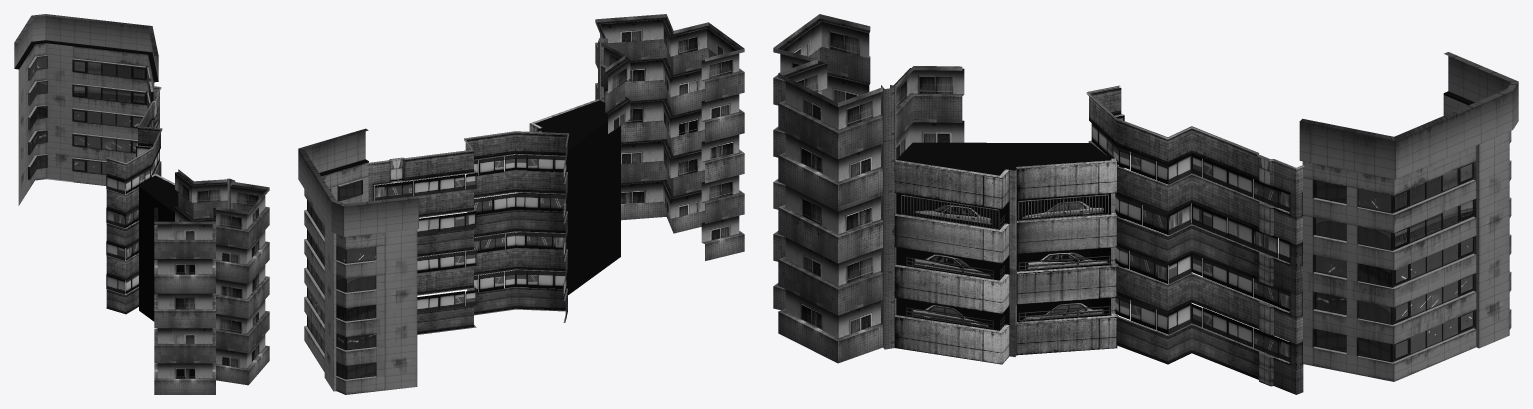
File: downtown_block_3.fbx
The picture shows the model from 3 angles, left to right: view 1: azimuth 30°, elevation 25°; view 2: azimuth 150°, elevation 25°; view 3: azimuth 270°, elevation 25°; orthographic projection. The views are drawn at different scales.
Parts seen in each view (by area): view 1: downtown_building_1, downtown_building_3, downtown_building_2, downtown_building_4; view 2: downtown_building_2, downtown_building_1, downtown_building_3, downtown_building_4; view 3: downtown_building_3, downtown_building_4, downtown_building_2, downtown_building_1.
Part boxes in pixels (bbox=[...]): downtown_building_1: bbox=[154, 169, 269, 394]; downtown_building_3: bbox=[14, 14, 158, 205]; downtown_building_2: bbox=[106, 86, 162, 314]; downtown_building_4: bbox=[139, 174, 178, 321]; downtown_building_2: bbox=[368, 131, 569, 334]; downtown_building_1: bbox=[595, 14, 744, 260]; downtown_building_3: bbox=[298, 128, 418, 394]; downtown_building_4: bbox=[517, 99, 620, 294]; downtown_building_3: bbox=[1299, 52, 1518, 381]; downtown_building_4: bbox=[895, 142, 1117, 364]; downtown_building_2: bbox=[1086, 85, 1304, 394]; downtown_building_1: bbox=[773, 14, 964, 363].
Bounding box in the file's own units: 1933 × 1771 × 4375.
